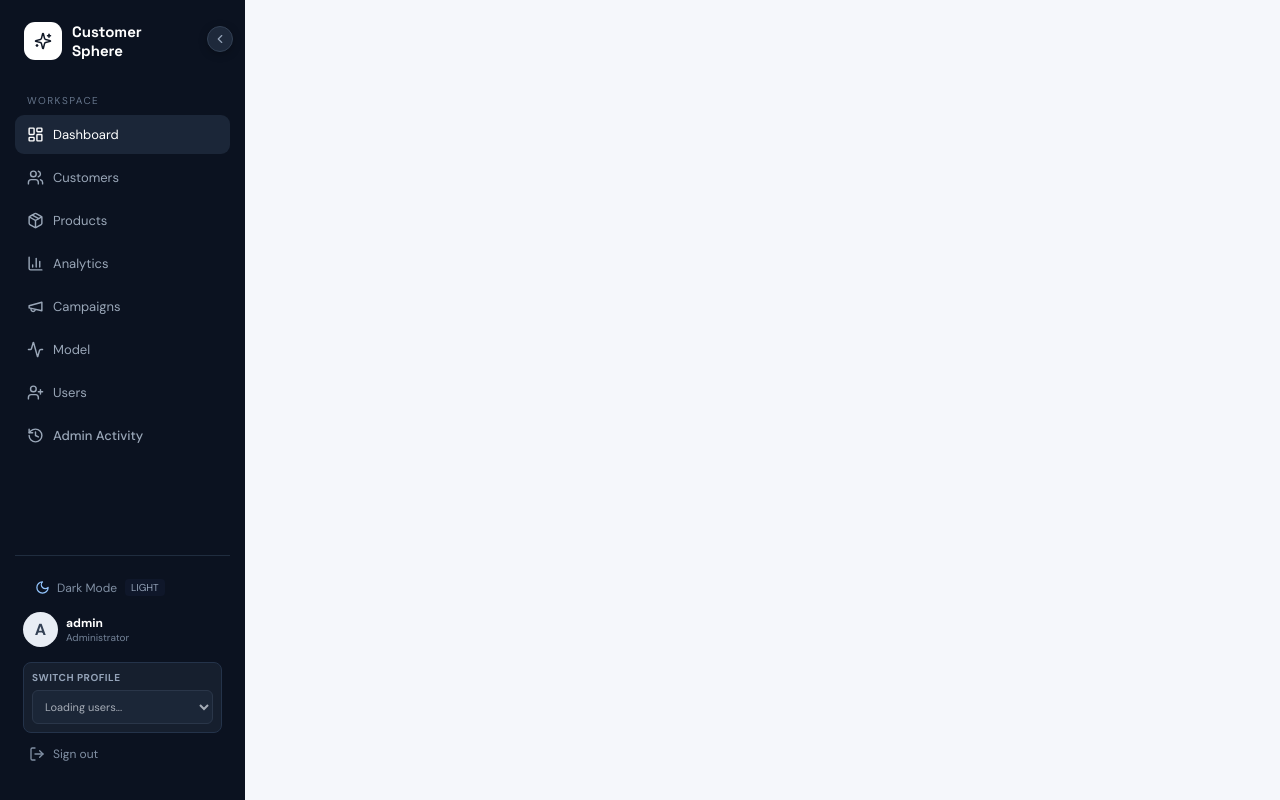
Shell Navigation & Layout Component › keeps the profile selector available when the sidebar is collapsed
Note: Minimize sidebar
Click the button titled "Minimize sidebar" at (220, 39), box left=207, top=26, right=233, bottom=52
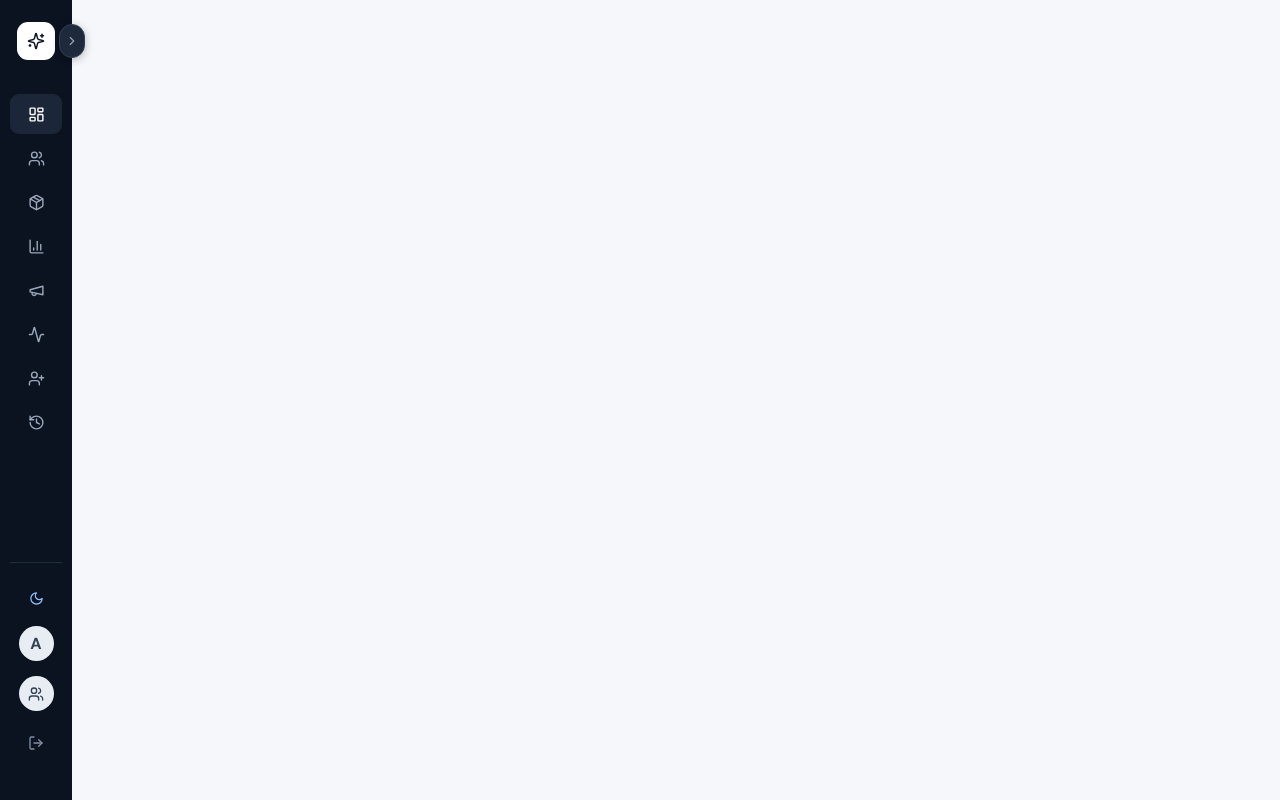
Select "new_user — Viewer" in the dropdown named "Switch profile" at (36, 694), box left=18, top=676, right=54, bottom=711
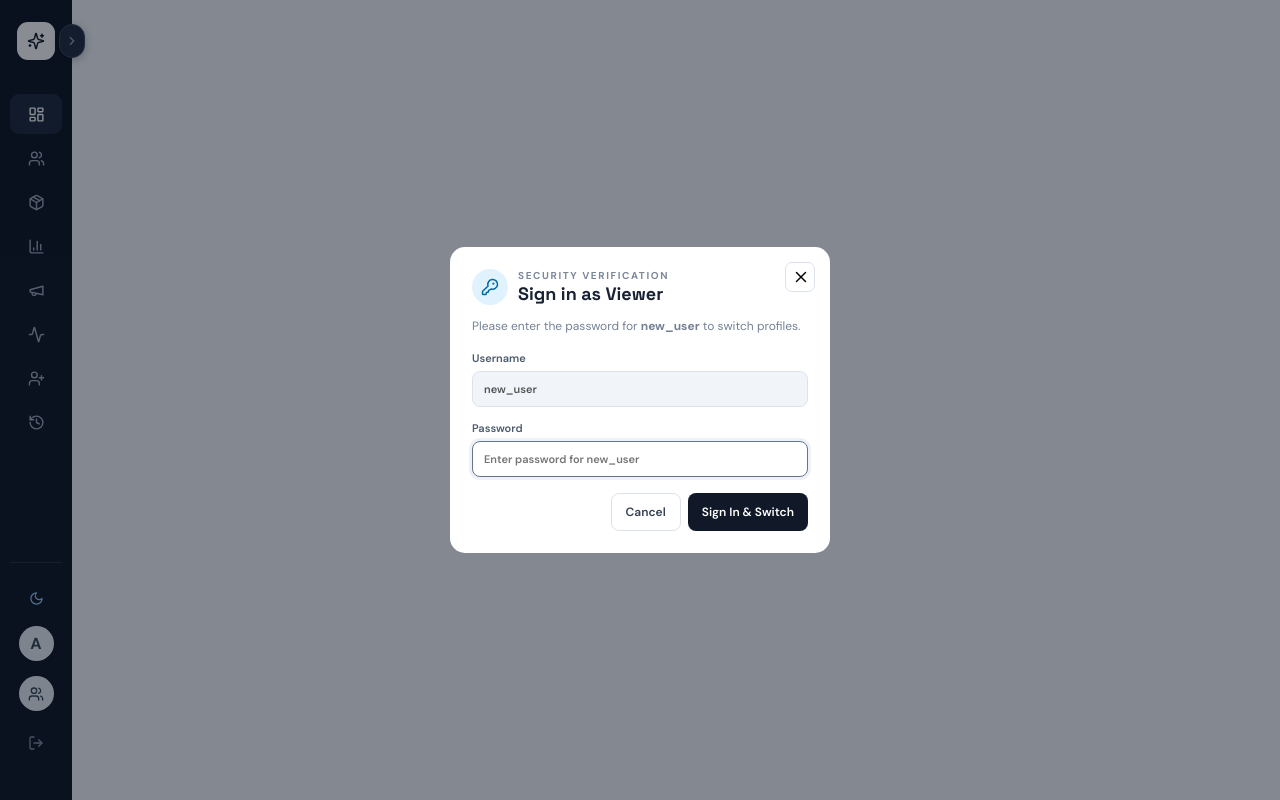
Result: the heading "Sign in as Viewer" is shown at left=518, top=282, right=669, bottom=305
